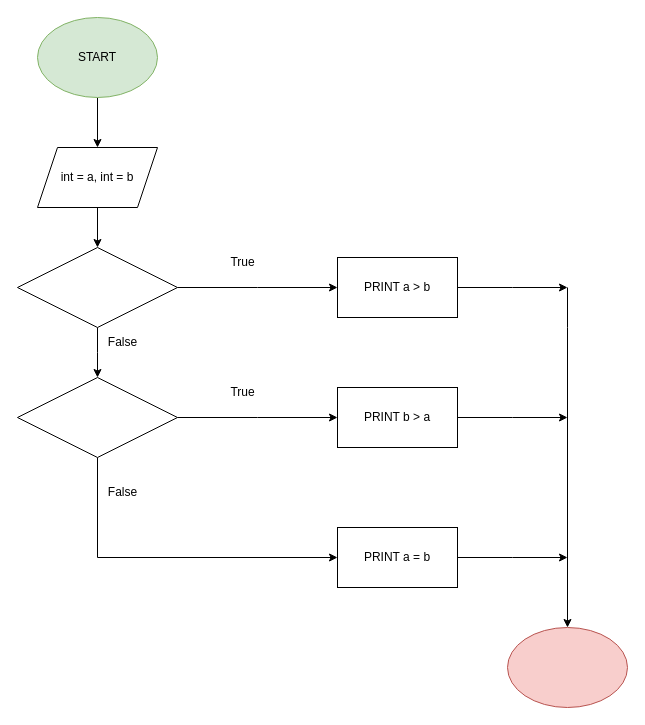
The diagram is 645 pixels wide and 725 high, and some of its shapes have lost their labels. Each missing label, with the box of its shape:
else if b > a: (16, 376, 178, 458)
END: (506, 626, 628, 708)
if a > b: (16, 246, 178, 328)
